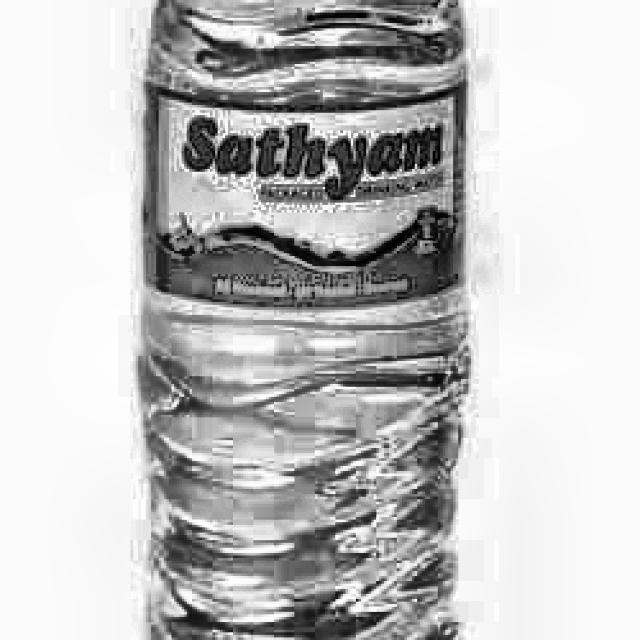bottle: (131, 0, 476, 640)
